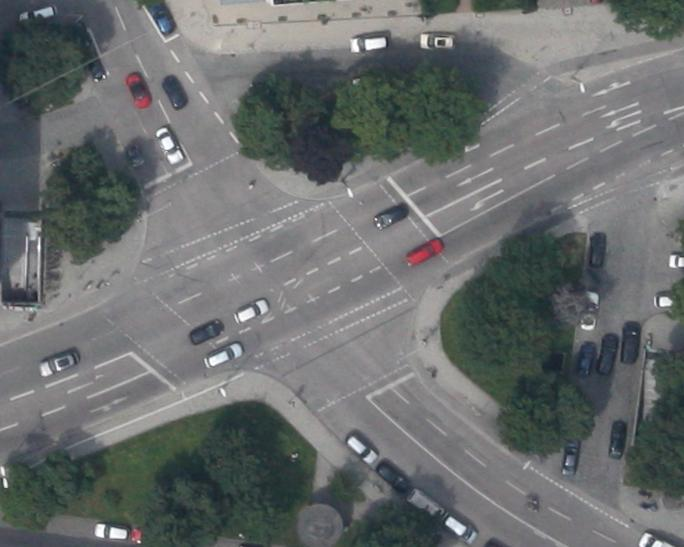car: (405, 486, 445, 524), (36, 347, 80, 379), (374, 458, 412, 495), (439, 511, 478, 545), (152, 124, 183, 166), (202, 340, 244, 370), (404, 237, 444, 268), (159, 73, 190, 111), (231, 298, 269, 326), (618, 320, 642, 364), (124, 72, 151, 110), (188, 318, 224, 346), (595, 332, 619, 374), (148, 1, 176, 36), (372, 202, 407, 230), (18, 2, 58, 26), (345, 434, 377, 464), (606, 419, 628, 460), (579, 290, 600, 331), (349, 34, 389, 54), (93, 521, 130, 541), (561, 437, 580, 475), (84, 54, 108, 84), (587, 231, 606, 267), (419, 32, 455, 50), (576, 342, 594, 377), (125, 144, 146, 168)
